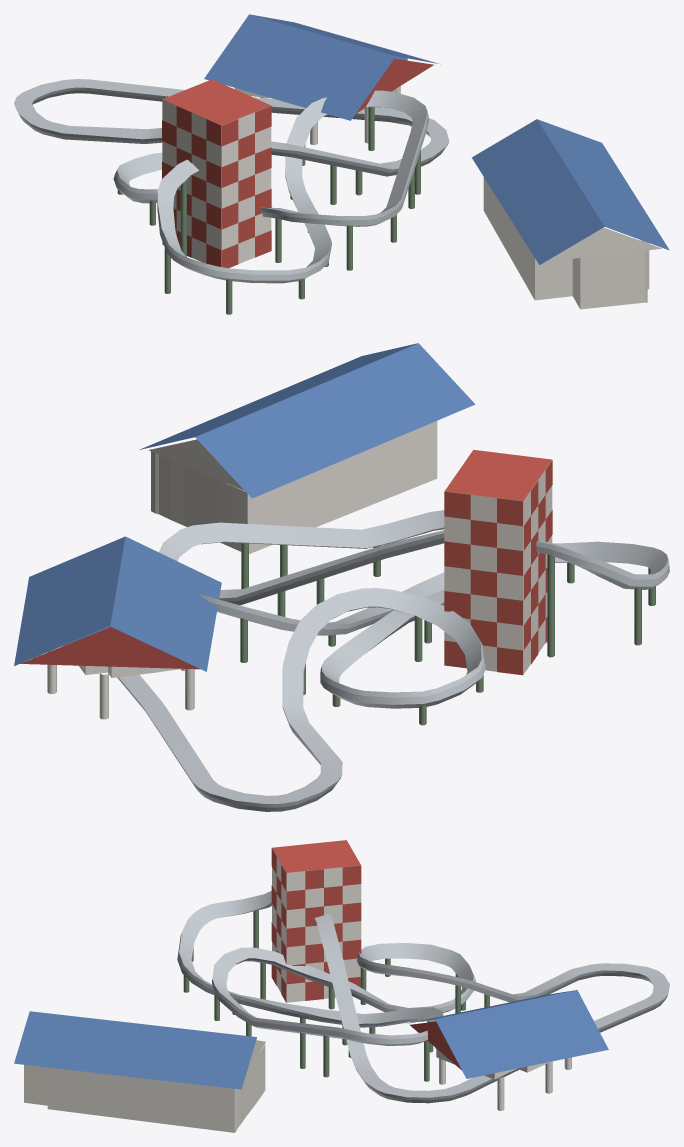
Rendered from detail.glb.
3 views of the same model, one above another, from view 1: azimuth 30°, elevation 25°; view 2: azimuth 150°, elevation 25°; view 3: azimuth 270°, elevation 25° (orthographic). The views are drawn at different scales.
Visible parts, largest first — view 1: the-barnstormer-walt-disney-world; view 2: the-barnstormer-walt-disney-world; view 3: the-barnstormer-walt-disney-world.
Boxes of the visible parts, x1,y1,x2,y2 form: the-barnstormer-walt-disney-world: [14, 14, 669, 314]; the-barnstormer-walt-disney-world: [14, 343, 669, 811]; the-barnstormer-walt-disney-world: [14, 840, 669, 1132].
Size of the model in its own units: 43.64 by 14 by 64.1.
